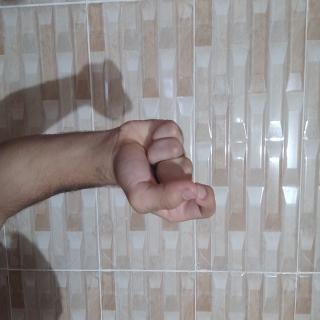FAA: (81, 131, 171, 303)
